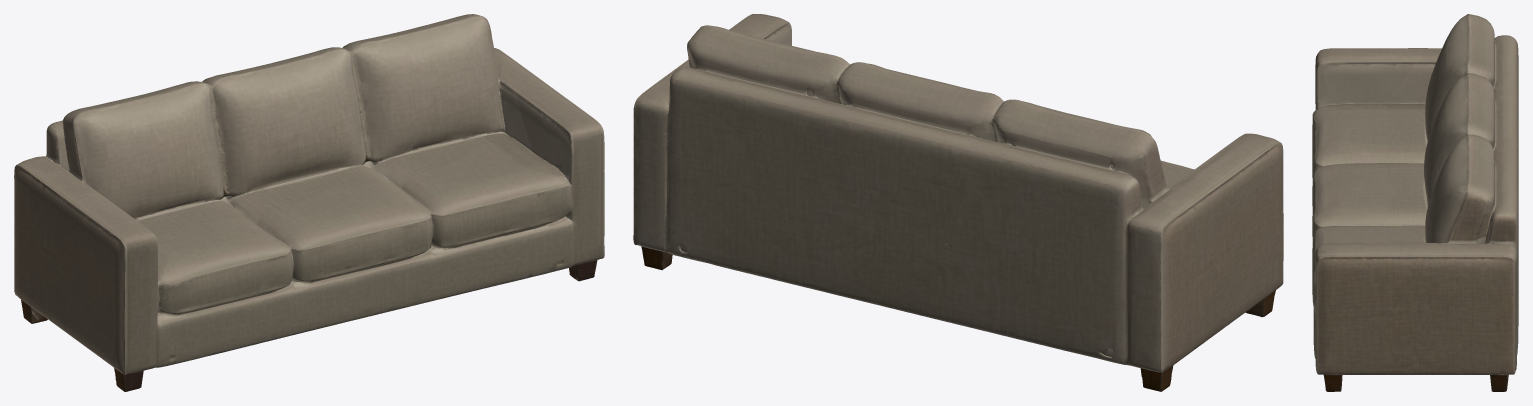
The model's file is sofa.glb.
The picture shows the model from 3 angles, left to right: view 1: azimuth 30°, elevation 25°; view 2: azimuth 150°, elevation 25°; view 3: azimuth 270°, elevation 25°; orthographic projection. The views are drawn at different scales.
Visible parts, largest first — view 1: sofa; view 2: sofa; view 3: sofa.
Boxes of the visible parts, x1,y1,x2,y2 form: sofa: [14, 14, 604, 391]; sofa: [633, 14, 1283, 391]; sofa: [1312, 14, 1518, 391].
Bounding box in the file's own units: 2.1 × 0.8812 × 0.8677.
1 material, 1 textured.
